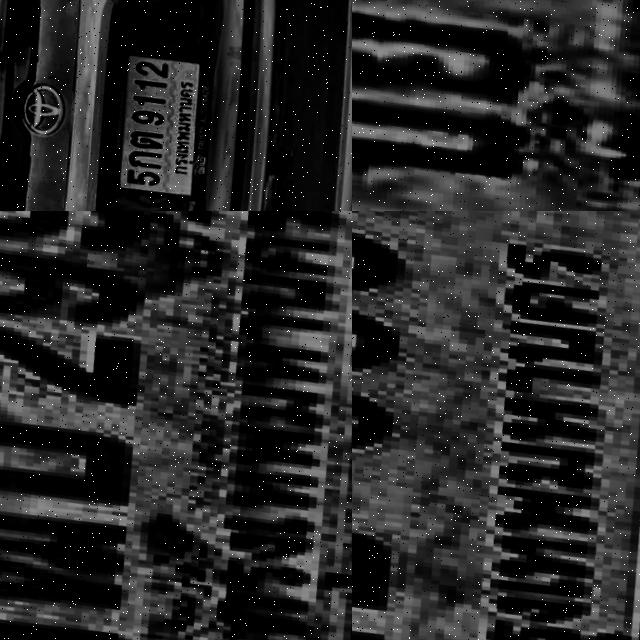license-plate: (0, 211, 352, 640), (352, 211, 640, 640), (352, 0, 640, 211), (95, 47, 222, 210)
